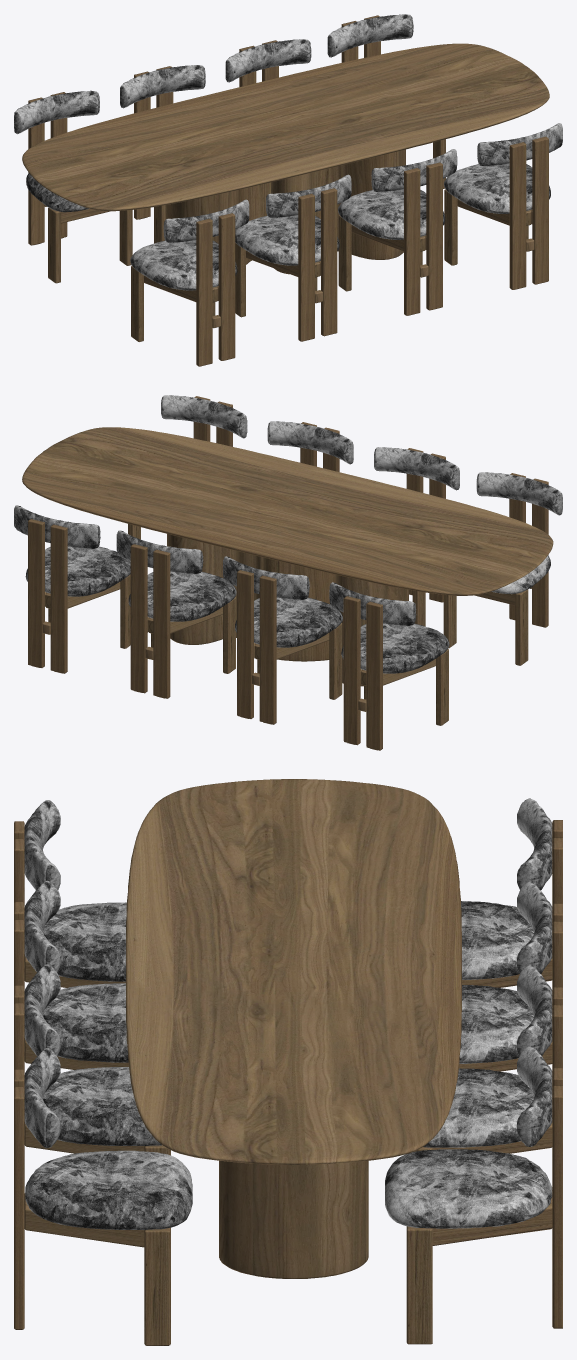
File: furniture_1.glb
The picture shows the model from 3 angles, top to bottom: view 1: azimuth 30°, elevation 25°; view 2: azimuth 150°, elevation 25°; view 3: azimuth 270°, elevation 25°; orthographic projection. The views are drawn at different scales.
Parts seen in each view (by area): view 1: GF_Dark oak dining table.001, GF_Dining chair bouclette.004, GF_Dining chair bouclette.008, GF_Dining chair bouclette.006, GF_Dining chair bouclette.007, GF_Retopo_Plane.009, GF_Retopo_Plane.007, GF_Retopo_Plane.006, GF_Retopo_Plane.008, GF_Dining chair bouclette.005, GF_Retopo_Plane.005, GF_Retopo_Plane.004 (+5 smaller); view 2: GF_Dark oak dining table.001, GF_Dining chair bouclette.002, GF_Dining chair bouclette.001, GF_Dining chair bouclette.005, GF_Dining chair bouclette.003, GF_Retopo_Plane.005, GF_Retopo_Plane.003, GF_Retopo_Plane.001, GF_Retopo_Plane.004, GF_Dining chair bouclette.008, GF_Retopo_Plane.009, GF_Retopo_Plane.007 (+5 smaller); view 3: GF_Dark oak dining table.001, GF_Retopo_Plane.004, GF_Retopo_Plane.006, GF_Retopo_Plane.007, GF_Retopo_Plane.003, GF_Retopo_Plane.008, GF_Retopo_Plane.009, GF_Dining chair bouclette.003, GF_Dining chair bouclette.004, GF_Retopo_Plane.001, GF_Retopo_Plane.005, GF_Dining chair bouclette.006 (+5 smaller).
Part boxes in pixels (left/top/right/bottom): GF_Dark oak dining table.001: left=22, top=43, right=549, bottom=300; GF_Dining chair bouclette.004: left=444, top=136, right=548, bottom=289; GF_Dining chair bouclette.008: left=131, top=213, right=235, bottom=366; GF_Dining chair bouclette.006: left=338, top=162, right=442, bottom=315; GF_Dining chair bouclette.007: left=235, top=188, right=337, bottom=341; GF_Retopo_Plane.009: left=130, top=199, right=249, bottom=290; GF_Retopo_Plane.007: left=338, top=149, right=457, bottom=239; GF_Retopo_Plane.006: left=444, top=123, right=562, bottom=213; GF_Retopo_Plane.008: left=235, top=174, right=351, bottom=265; GF_Dining chair bouclette.005: left=28, top=92, right=132, bottom=283; GF_Retopo_Plane.005: left=14, top=90, right=99, bottom=212; GF_Retopo_Plane.004: left=327, top=14, right=413, bottom=57; GF_Dark oak dining table.001: left=22, top=427, right=553, bottom=686; GF_Dining chair bouclette.002: left=130, top=544, right=235, bottom=698; GF_Dining chair bouclette.001: left=237, top=570, right=342, bottom=724; GF_Dining chair bouclette.005: left=343, top=596, right=448, bottom=750; GF_Dining chair bouclette.003: left=28, top=519, right=130, bottom=673; GF_Retopo_Plane.005: left=329, top=582, right=449, bottom=673; GF_Retopo_Plane.003: left=116, top=530, right=236, bottom=621; GF_Retopo_Plane.001: left=223, top=556, right=342, bottom=647; GF_Retopo_Plane.004: left=14, top=505, right=130, bottom=596; GF_Dining chair bouclette.008: left=443, top=473, right=548, bottom=665; GF_Retopo_Plane.009: left=476, top=472, right=562, bottom=594; GF_Retopo_Plane.007: left=267, top=421, right=353, bottom=464; GF_Dark oak dining table.001: left=126, top=779, right=461, bottom=1278; GF_Retopo_Plane.004: left=385, top=1046, right=552, bottom=1228; GF_Retopo_Plane.006: left=24, top=1048, right=192, bottom=1229; GF_Retopo_Plane.007: left=24, top=964, right=161, bottom=1145; GF_Retopo_Plane.003: left=423, top=965, right=552, bottom=1147; GF_Retopo_Plane.008: left=24, top=880, right=128, bottom=1062; GF_Retopo_Plane.009: left=24, top=800, right=126, bottom=981; GF_Dining chair bouclette.003: left=406, top=1068, right=562, bottom=1344; GF_Dining chair bouclette.004: left=14, top=1069, right=170, bottom=1345; GF_Retopo_Plane.001: left=459, top=881, right=552, bottom=1063; GF_Retopo_Plane.005: left=461, top=798, right=552, bottom=979; GF_Dining chair bouclette.006: left=14, top=985, right=170, bottom=1155.
Bounding box in the file's own units: 2.69 × 0.7773 × 1.63.
Materials: 3 (3 with a texture image).
